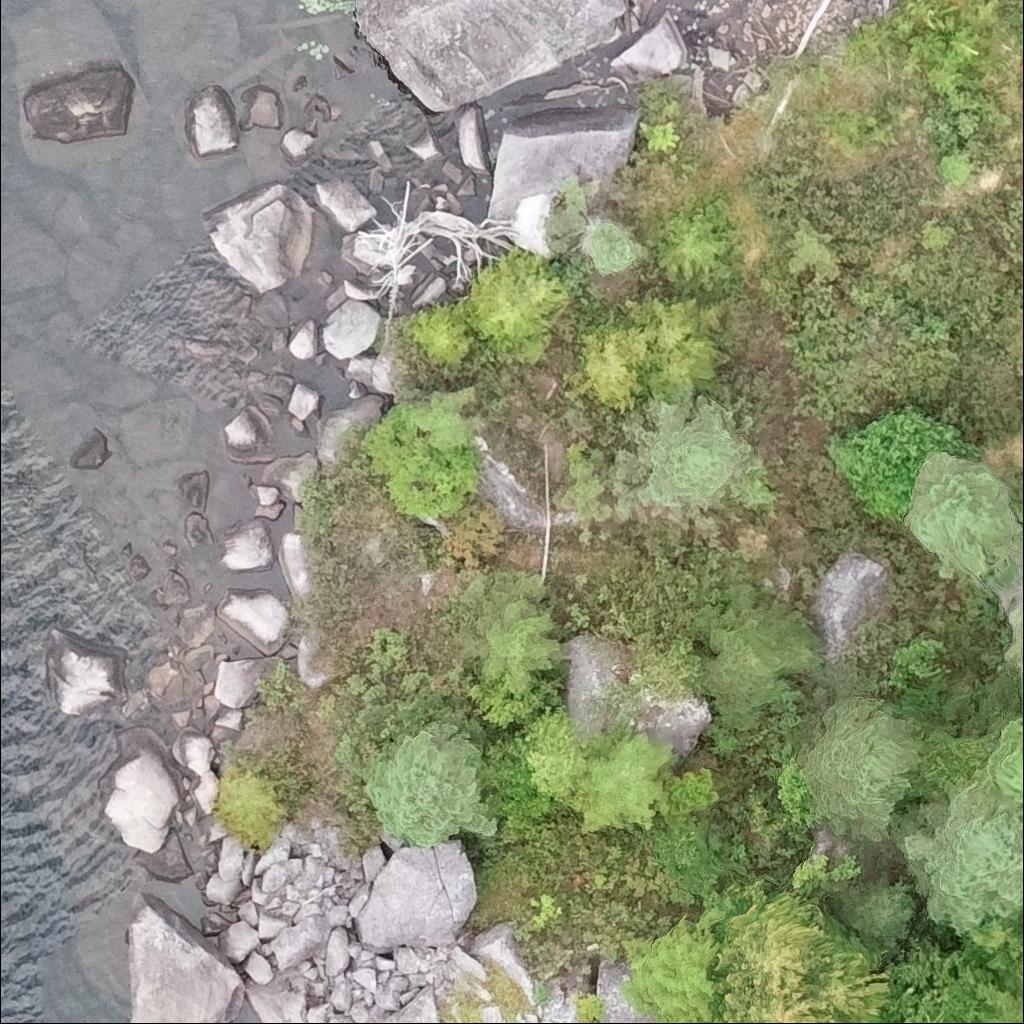crown: (711, 882, 893, 1023), (804, 696, 930, 842), (904, 779, 1023, 932), (365, 716, 498, 847), (697, 606, 821, 734), (613, 396, 749, 509), (905, 452, 1023, 577), (618, 905, 726, 1023), (464, 248, 568, 360), (575, 732, 676, 832), (877, 936, 982, 1023), (627, 297, 718, 390), (478, 598, 562, 693), (580, 312, 658, 412), (524, 705, 593, 809), (655, 198, 734, 286), (401, 301, 477, 368), (653, 821, 718, 899), (633, 634, 702, 705), (979, 719, 1023, 813), (969, 955, 1023, 1023), (580, 223, 638, 275), (1005, 613, 1023, 669), (715, 1018, 728, 1023)
